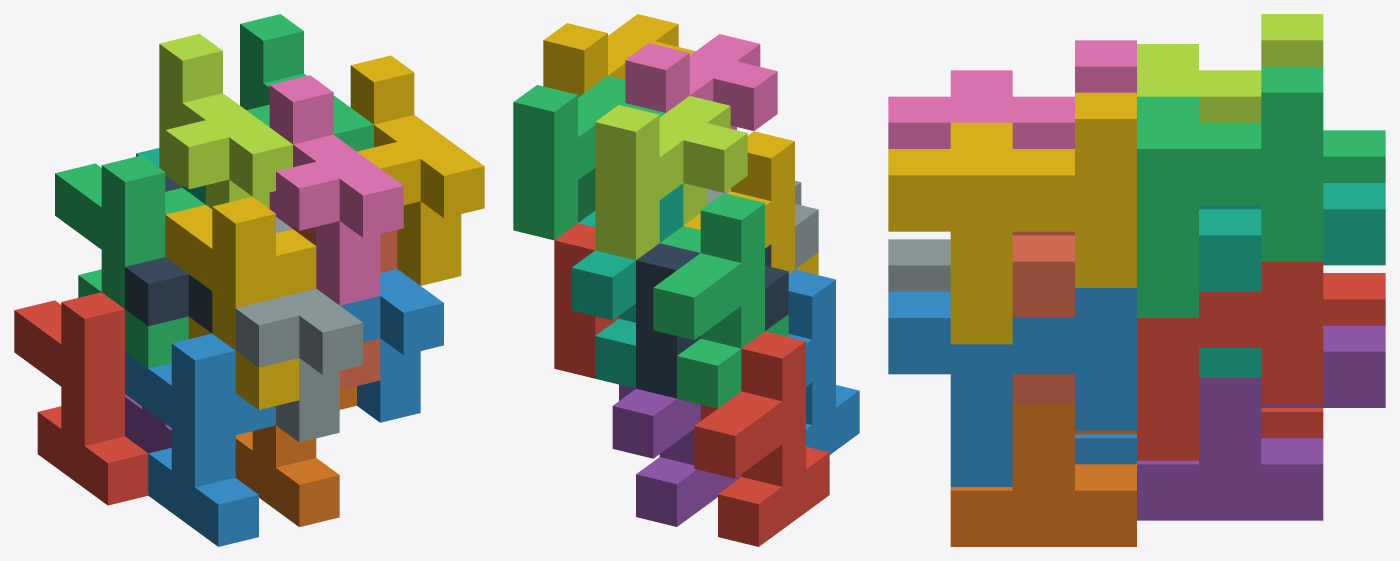
File: tiling.obj
3 renders of one model, left to right at view 1: azimuth 30°, elevation 25°; view 2: azimuth 150°, elevation 25°; view 3: azimuth 270°, elevation 25°, orthographic. The views are drawn at different scales.
Visible parts, largest first — view 1: copy_1_domain_2, copy_1_domain_1, copy_2_domain_4, copy_1_domain_4, copy_2_domain_8, copy_2_domain_3, copy_1_domain_3, copy_2_domain_2, copy_2_domain_6, copy_1_domain_6, copy_2_domain_7, copy_2_domain_1 (+2 smaller); view 2: copy_1_domain_1, copy_1_domain_3, copy_2_domain_3, copy_2_domain_7, copy_1_domain_5, copy_2_domain_4, copy_1_domain_2, copy_1_domain_7, copy_2_domain_1, copy_2_domain_8, copy_1_domain_4, copy_2_domain_5 (+1 smaller); view 3: copy_2_domain_8, copy_2_domain_7, copy_2_domain_6, copy_1_domain_5, copy_2_domain_5, copy_1_domain_6, copy_2_domain_4, copy_1_domain_7, copy_2_domain_3, copy_1_domain_8, copy_1_domain_1, copy_1_domain_3 (+2 smaller).
Boxes of the visible parts, x1,y1,x2,y2 form: copy_1_domain_2: [125, 333, 275, 546]; copy_1_domain_1: [14, 292, 148, 505]; copy_2_domain_4: [269, 75, 403, 305]; copy_1_domain_4: [165, 196, 316, 409]; copy_2_domain_8: [350, 55, 484, 285]; copy_2_domain_3: [159, 34, 292, 208]; copy_1_domain_3: [55, 155, 205, 368]; copy_2_domain_2: [235, 217, 362, 442]; copy_2_domain_6: [340, 269, 443, 422]; copy_1_domain_6: [235, 386, 356, 526]; copy_2_domain_7: [240, 14, 373, 151]; copy_2_domain_1: [125, 175, 212, 333]; copy_1_domain_1: [694, 331, 829, 546]; copy_1_domain_3: [653, 193, 788, 408]; copy_2_domain_3: [595, 96, 747, 260]; copy_2_domain_7: [513, 76, 665, 240]; copy_1_domain_5: [612, 384, 741, 526]; copy_2_domain_4: [625, 34, 777, 130]; copy_1_domain_2: [788, 269, 859, 454]; copy_1_domain_7: [571, 183, 683, 388]; copy_2_domain_1: [636, 243, 788, 398]; copy_2_domain_8: [543, 14, 695, 97]; copy_1_domain_4: [683, 131, 818, 275]; copy_2_domain_5: [554, 223, 618, 378]; copy_2_domain_8: [888, 92, 1136, 344]; copy_2_domain_7: [1137, 66, 1323, 317]; copy_2_domain_6: [888, 288, 1136, 486]; copy_1_domain_5: [1137, 325, 1385, 520]; copy_2_domain_5: [1137, 261, 1323, 460]; copy_1_domain_6: [950, 404, 1136, 546]; copy_2_domain_4: [888, 40, 1136, 148]; copy_1_domain_7: [1199, 183, 1385, 377]; copy_2_domain_3: [1137, 14, 1323, 122]; copy_1_domain_8: [1012, 231, 1074, 404]; copy_1_domain_1: [1261, 273, 1385, 438]; copy_1_domain_3: [1323, 130, 1385, 182].
Size of the model in its own units: 7 by 9 by 8.
